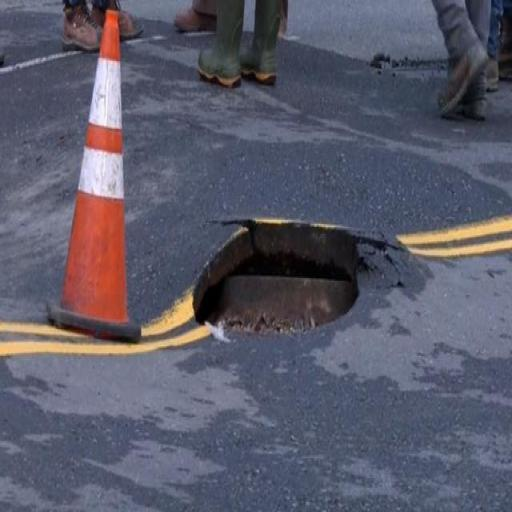Concentric_Crack: (193, 220, 408, 332)
